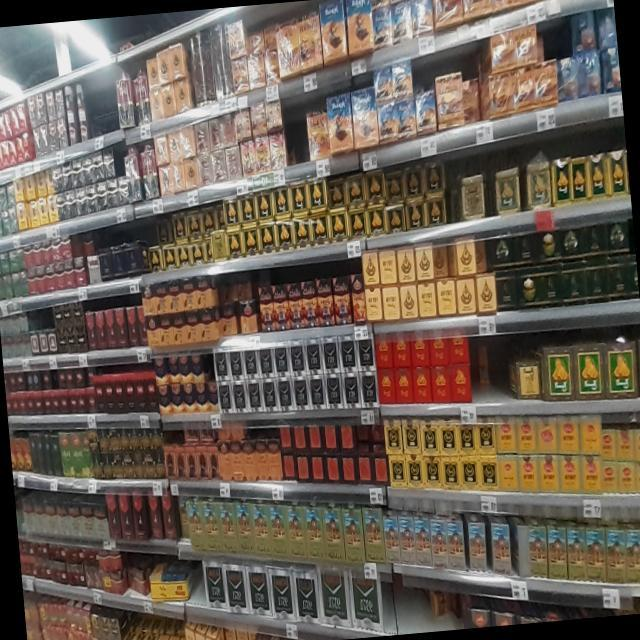produto: (398, 501, 640, 591), (387, 409, 601, 497), (185, 491, 385, 563), (210, 346, 373, 414), (215, 189, 330, 258)
vazio: (205, 261, 364, 333)
